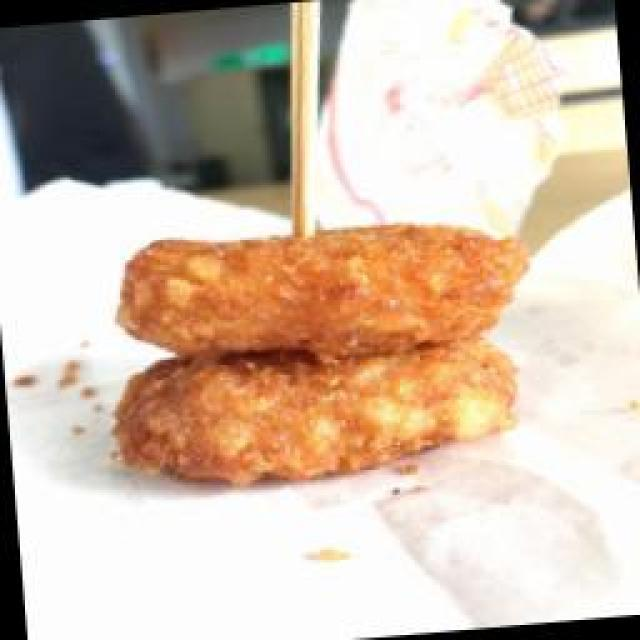triangle_hash_brown: (97, 208, 525, 498)
